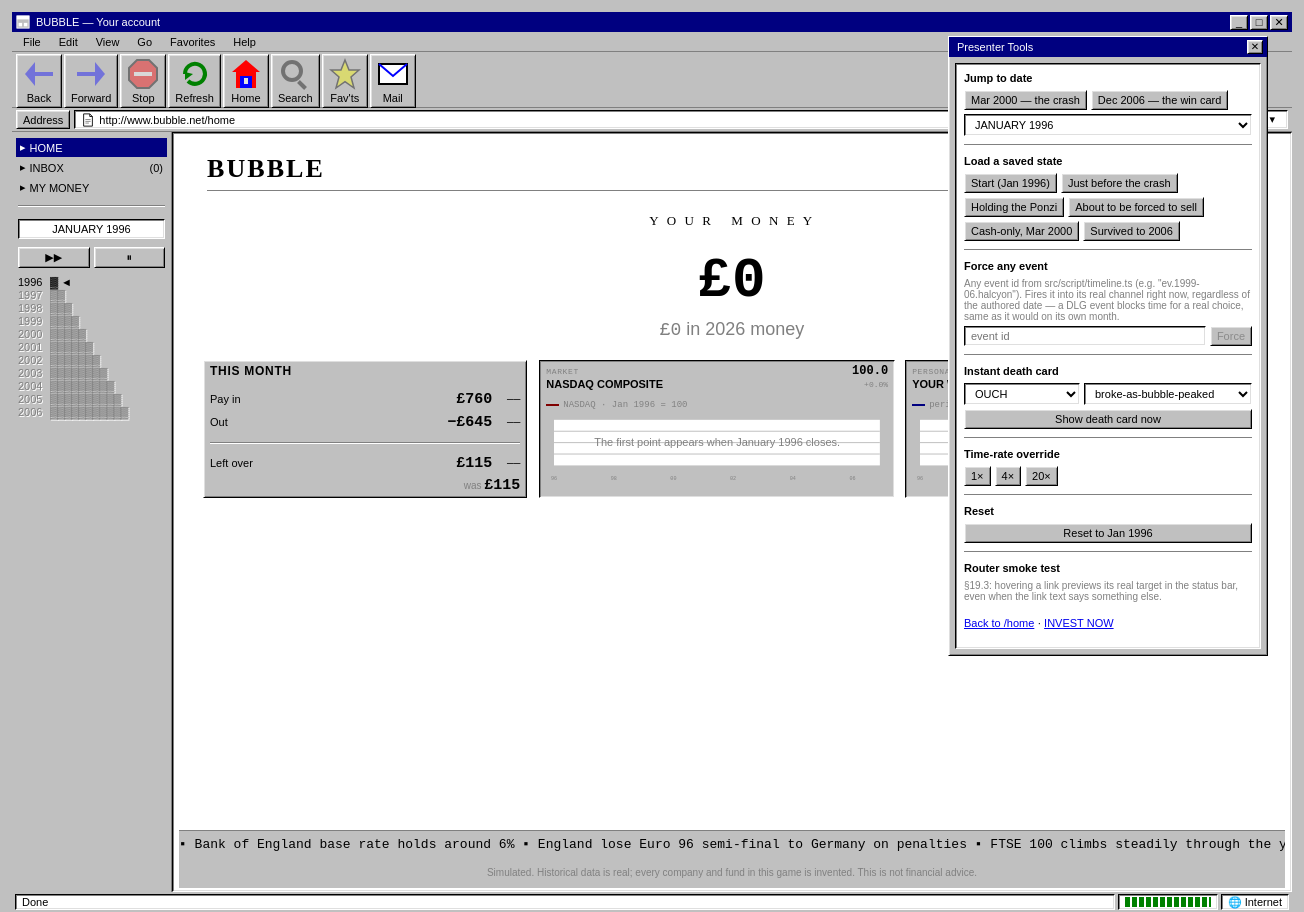
Test case: §25.5 — the demo path, beat by beat, driven through the real AppShell › title bar and address bar stay in sync across a real navigation, and Back un-greys then re-greys (§19.3)
Click the button with class "comet-sidebar__item" showing "▸ INBOX (0)".
click(92, 168)  # box [16,158,167,177]
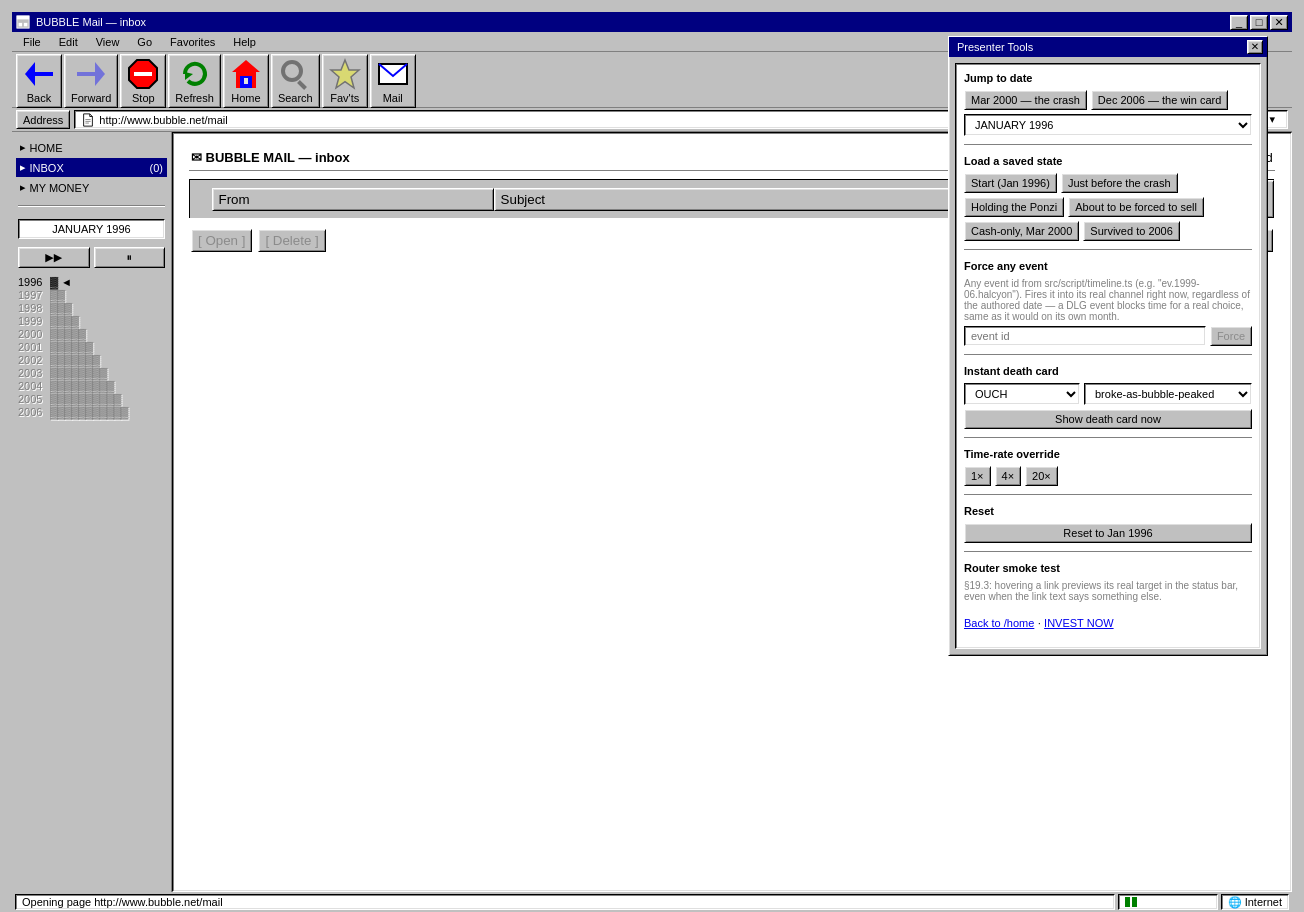
Result: the text with class "comet-addressbar__url" reads "http://www.bubble.net/mail" at [99,114,228,126]
Result: the text with class "comet-titlebar__title" reads "BUBBLE Mail — inbox" at [36,16,146,28]
Result: the button "Back" is enabled
Click the button "Back".
click(39, 81)  # box [16,54,62,108]
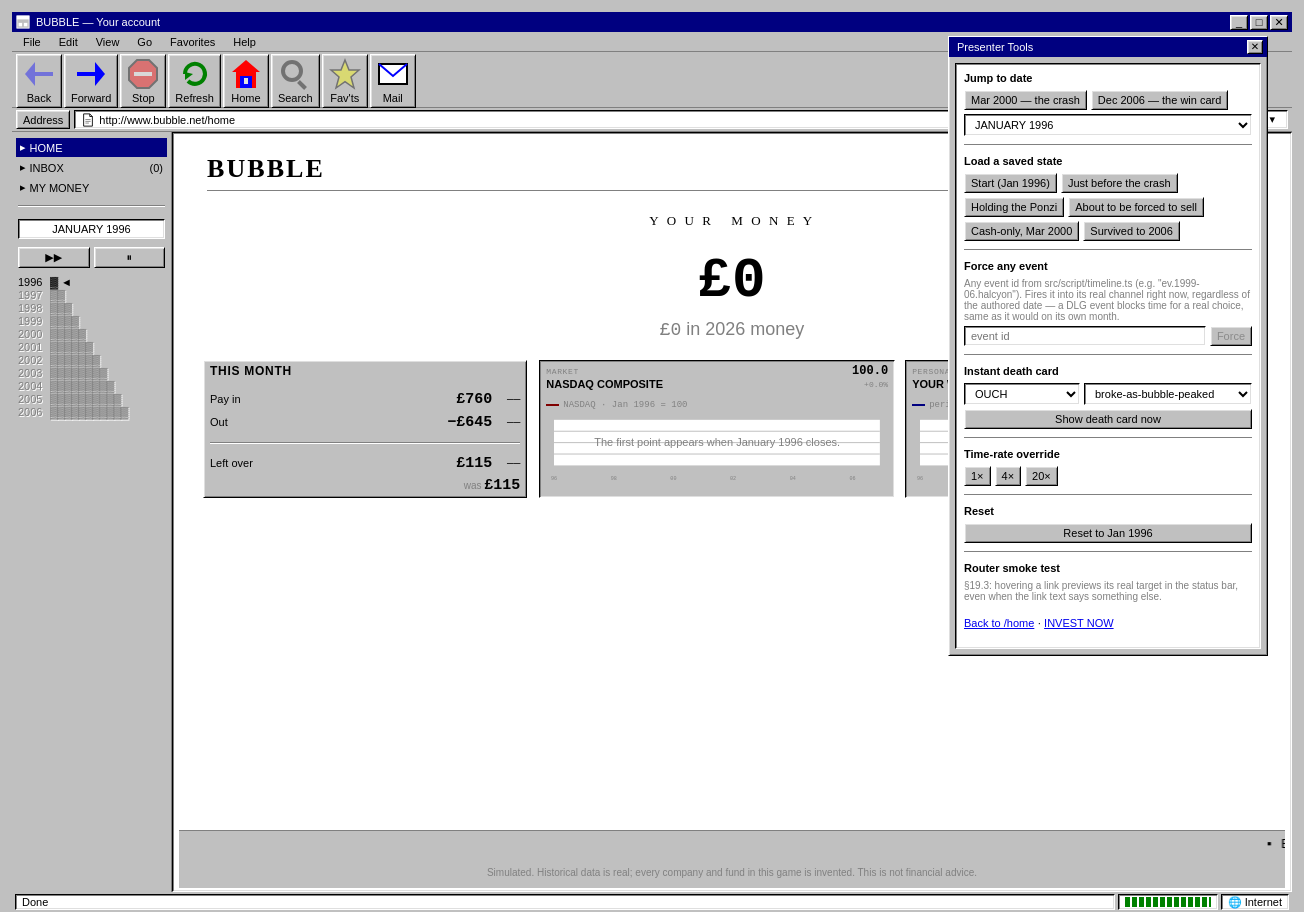
Result: the text with class "comet-addressbar__url" reads "http://www.bubble.net/home" at [99,114,235,126]
Result: the button "Back" is disabled at [16,54,62,108]
